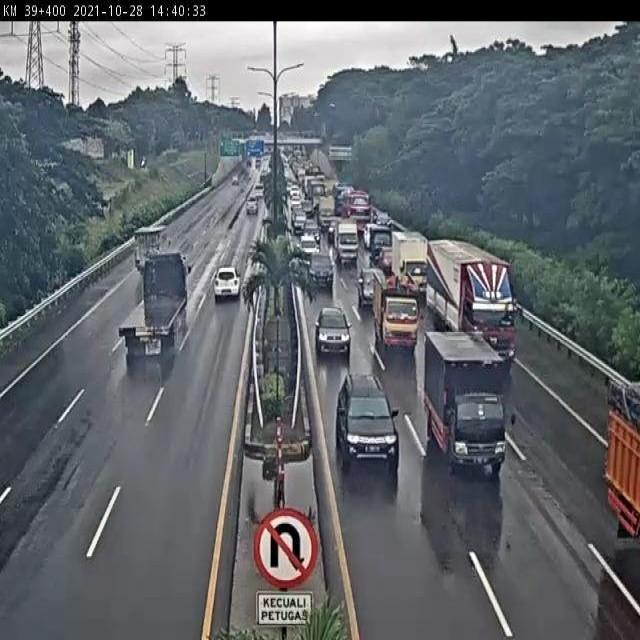big truck: (429, 236, 515, 355), (116, 252, 189, 351)
car: (337, 372, 398, 465), (314, 300, 350, 355), (212, 261, 245, 300), (305, 248, 333, 289), (354, 266, 383, 302)
small truck: (424, 334, 506, 474), (369, 275, 415, 348), (393, 231, 433, 296), (132, 222, 167, 270), (327, 218, 358, 262)
